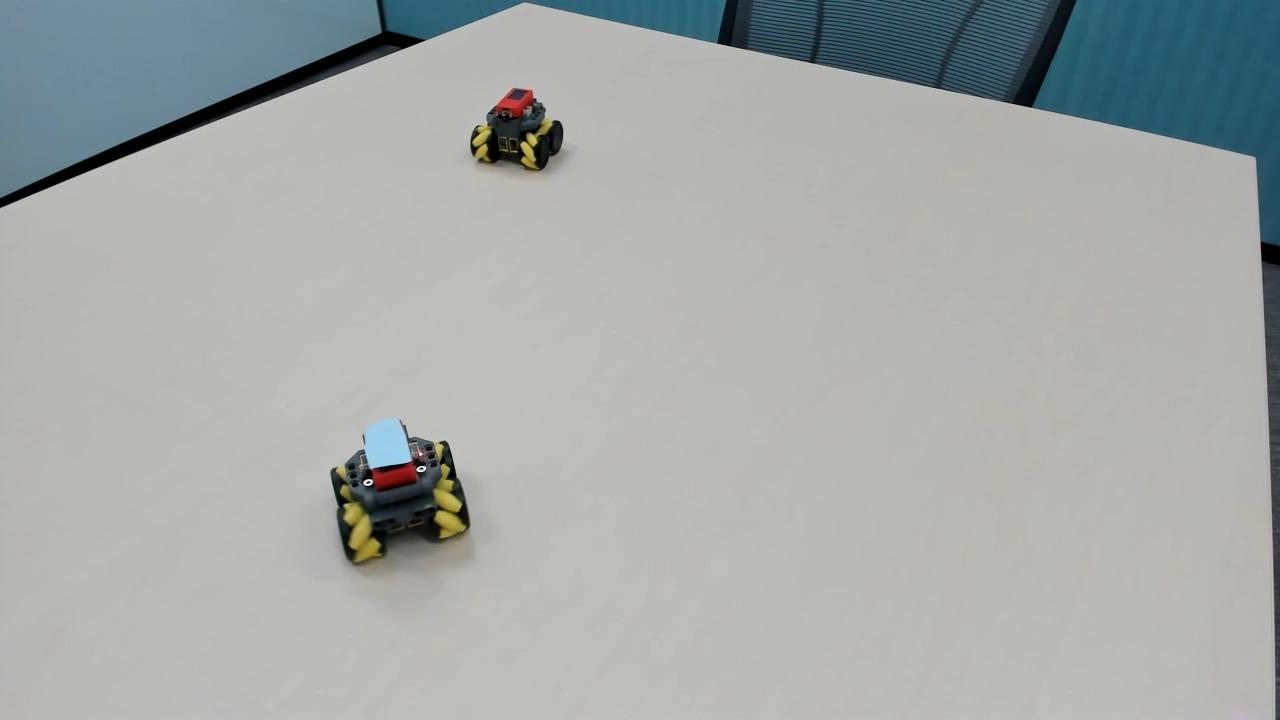B-Robot: (324, 406, 486, 579)
R-Robot: (461, 78, 573, 182)
